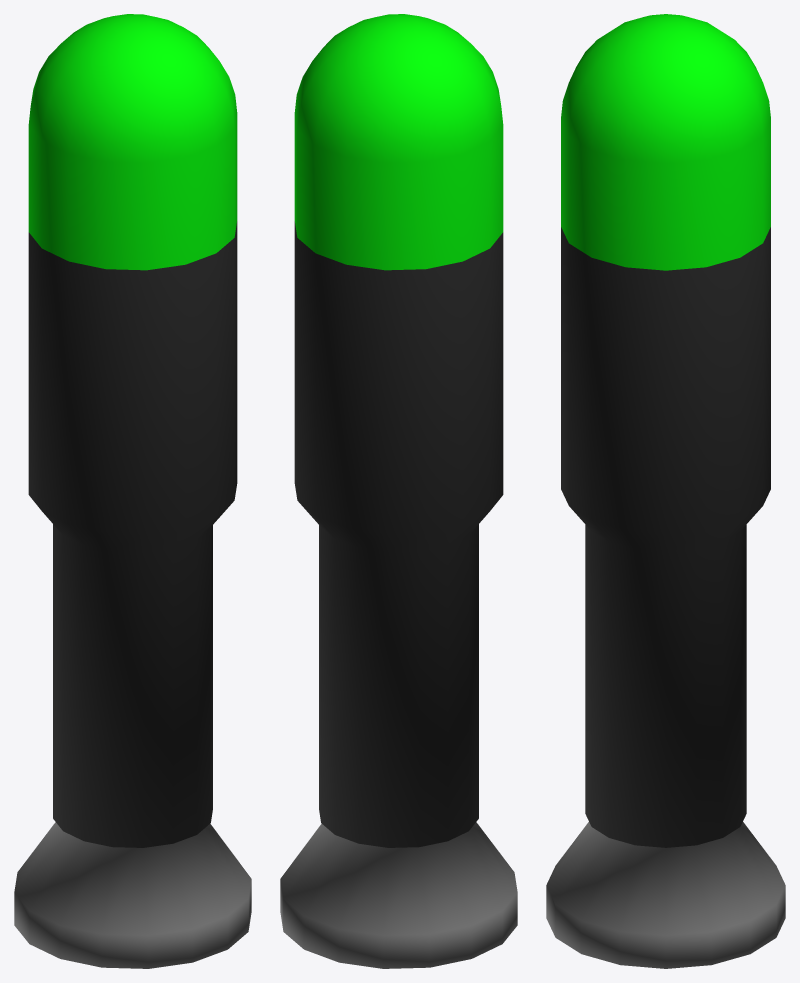
The model's file is Missile_2.fbx.
3 views of the same model, side by side, from view 1: azimuth 30°, elevation 25°; view 2: azimuth 150°, elevation 25°; view 3: azimuth 270°, elevation 25° (orthographic).
Parts seen in each view (by area): view 1: 球.003; view 2: 球.003; view 3: 球.003.
Boxes of the visible parts, x1,y1,x2,y2 form: 球.003: (14, 14, 251, 968); 球.003: (280, 14, 517, 968); 球.003: (546, 14, 785, 968).
Size of the model in its own units: 0.4723 by 1.95 by 0.4723.
